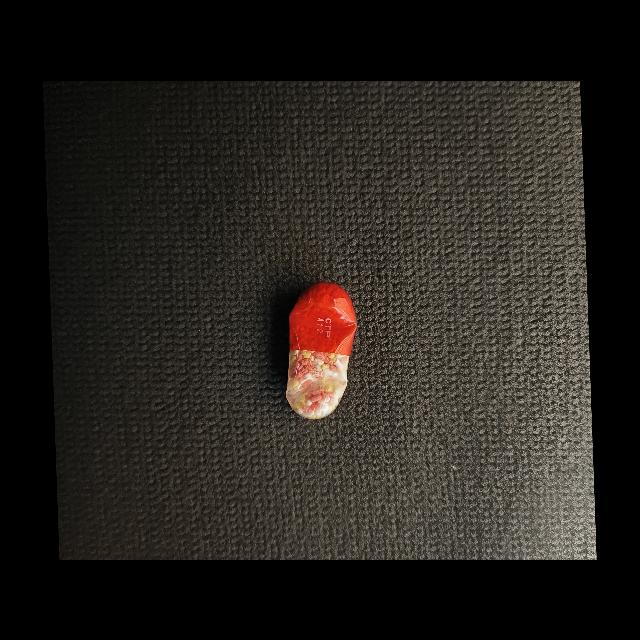Defective Capsule: (286, 281, 357, 419)
